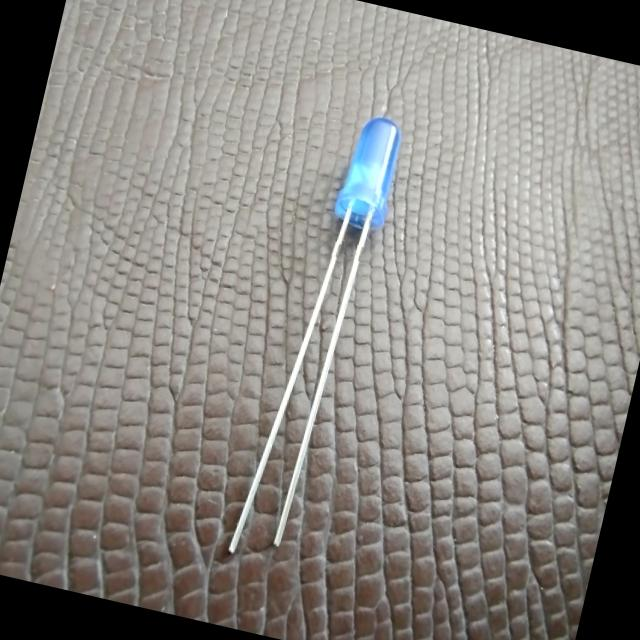blue_led: (329, 109, 408, 234)
